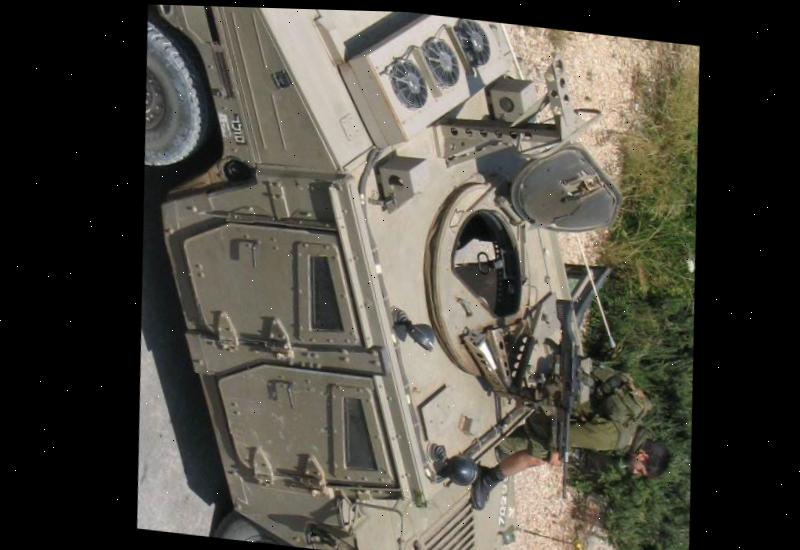armored_car: (102, 3, 666, 550)
